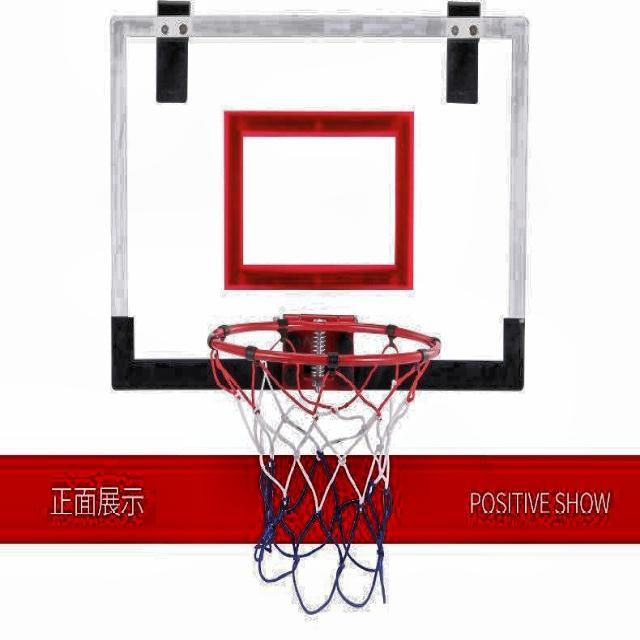rim: (208, 320, 442, 610)
